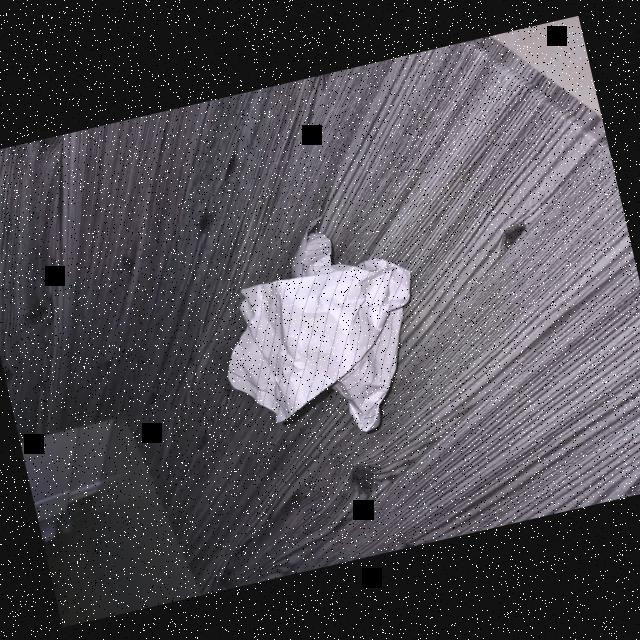scrap_paper: (200, 218, 437, 452)
